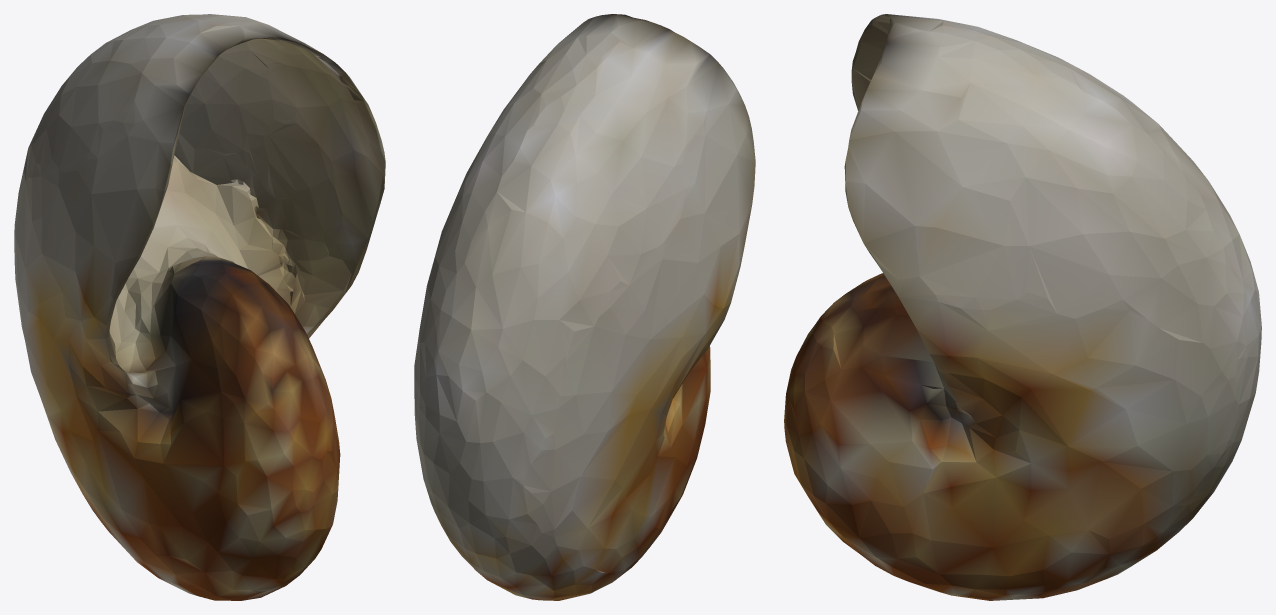
The model's file is shell-nautilus.gltf.
3 renders of one model, left to right at view 1: azimuth 30°, elevation 25°; view 2: azimuth 150°, elevation 25°; view 3: azimuth 270°, elevation 25°, orthographic. The views are drawn at different scales.
Parts seen in each view (by area): view 1: Object_2; view 2: Object_2; view 3: Object_2.
Boxes of the visible parts, x1,y1,x2,y2 form: Object_2: (14,14,385,600); Object_2: (414,14,755,600); Object_2: (784,14,1261,600).
Bounding box in the file's own units: 0.4593 × 1 × 0.7638.
